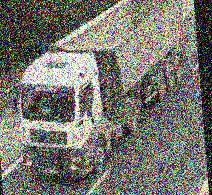truck: (5, 0, 195, 185)
